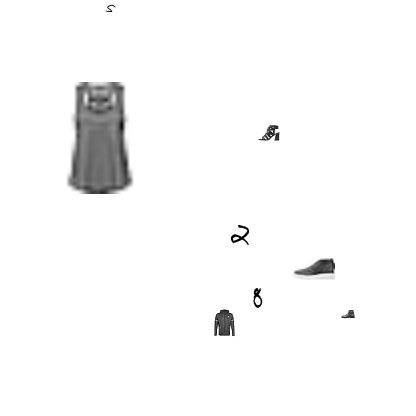2: (226, 221, 254, 249)
5: (103, 1, 117, 15)
8: (243, 283, 271, 311)
Ankle_boot: (293, 248, 335, 290), (341, 307, 355, 321)
Coat: (210, 309, 238, 337)
Sandal: (258, 121, 280, 143)
T-shirt/top: (44, 82, 156, 194)
